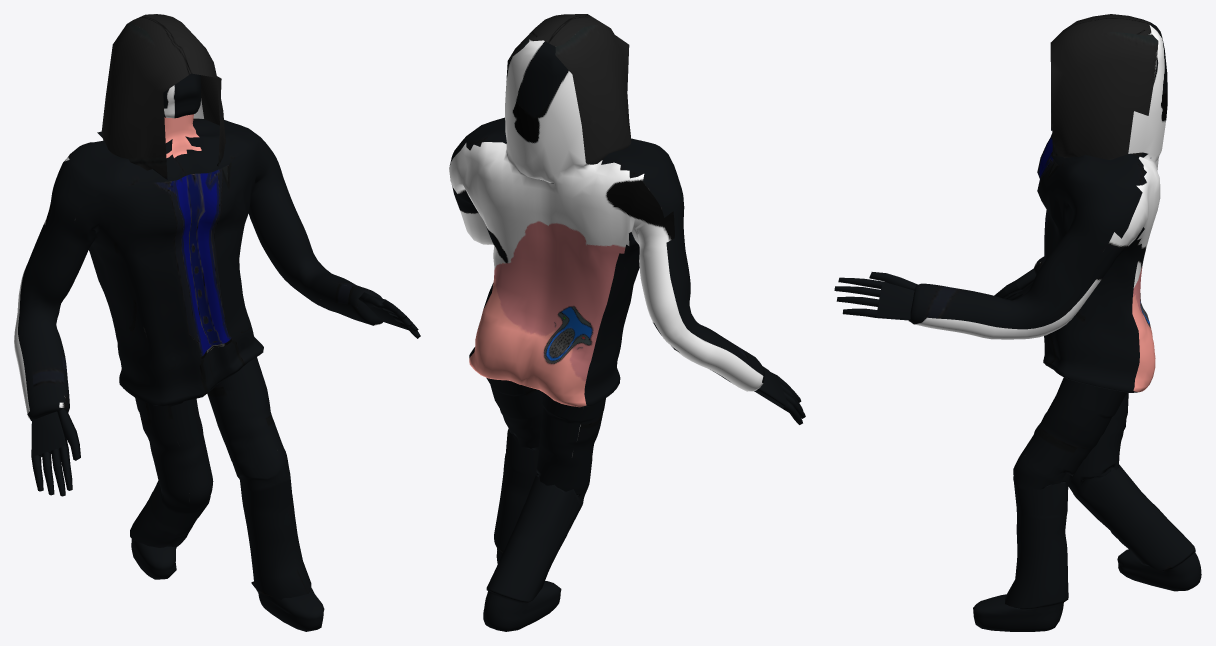
Rendered from keyFrame02.obj.
The picture shows the model from 3 angles, left to right: view 1: azimuth 30°, elevation 25°; view 2: azimuth 150°, elevation 25°; view 3: azimuth 270°, elevation 25°; orthographic projection. The views are drawn at different scales.
Visible parts, largest first — view 1: pasted__polySurface71 group4; view 2: pasted__polySurface71 group4; view 3: pasted__polySurface71 group4.
Part boxes in pixels (<box>): pasted__polySurface71 group4: <box>14,14,420,631</box>; pasted__polySurface71 group4: <box>449,14,805,631</box>; pasted__polySurface71 group4: <box>834,14,1201,631</box>.
Size of the model in its own units: 6.93 by 12.63 by 7.38.
Materials: 1 (1 with a texture image).
